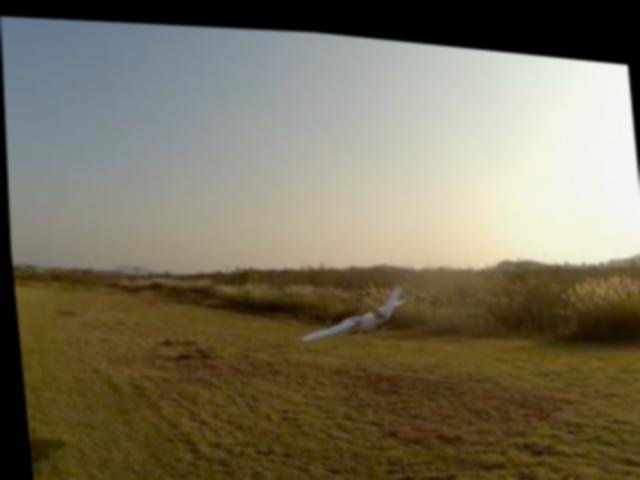uav: (280, 257, 423, 357)
